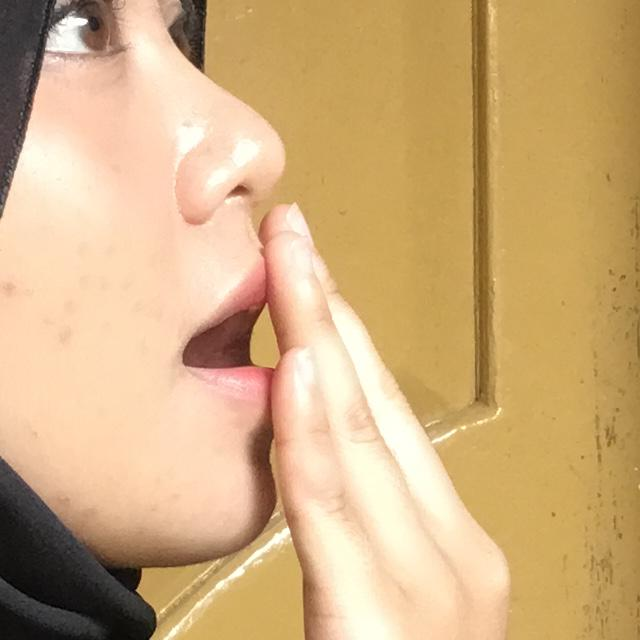ngantuk: (150, 136, 610, 640)
